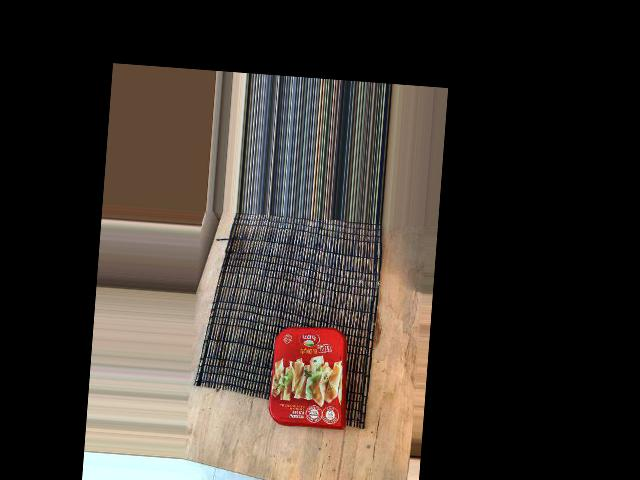cheese: (262, 320, 352, 438)
